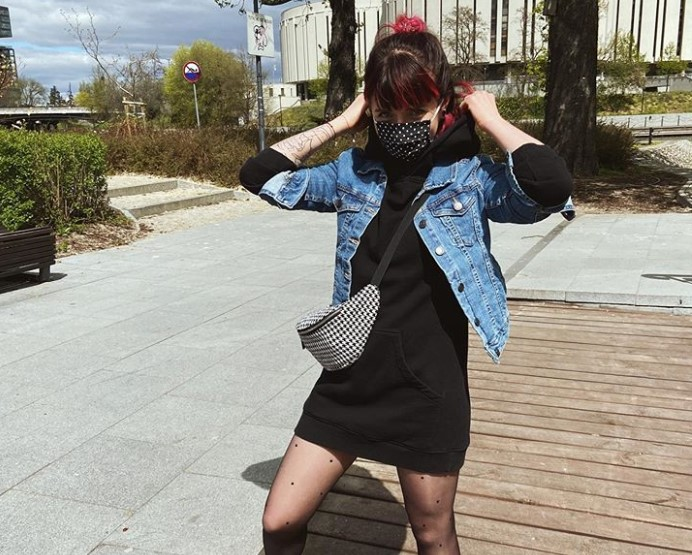face_with_mask: (362, 61, 449, 168)
